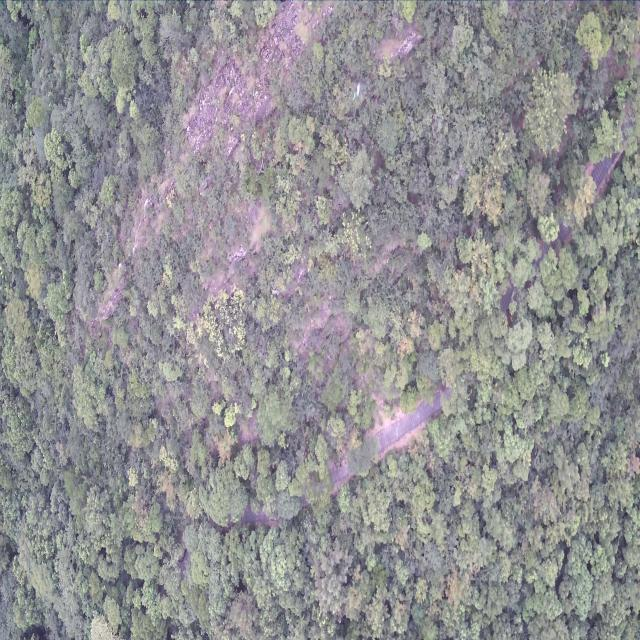drone: (352, 81, 365, 101)
